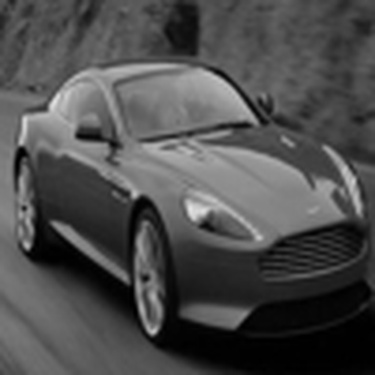car: (13, 51, 368, 356)
